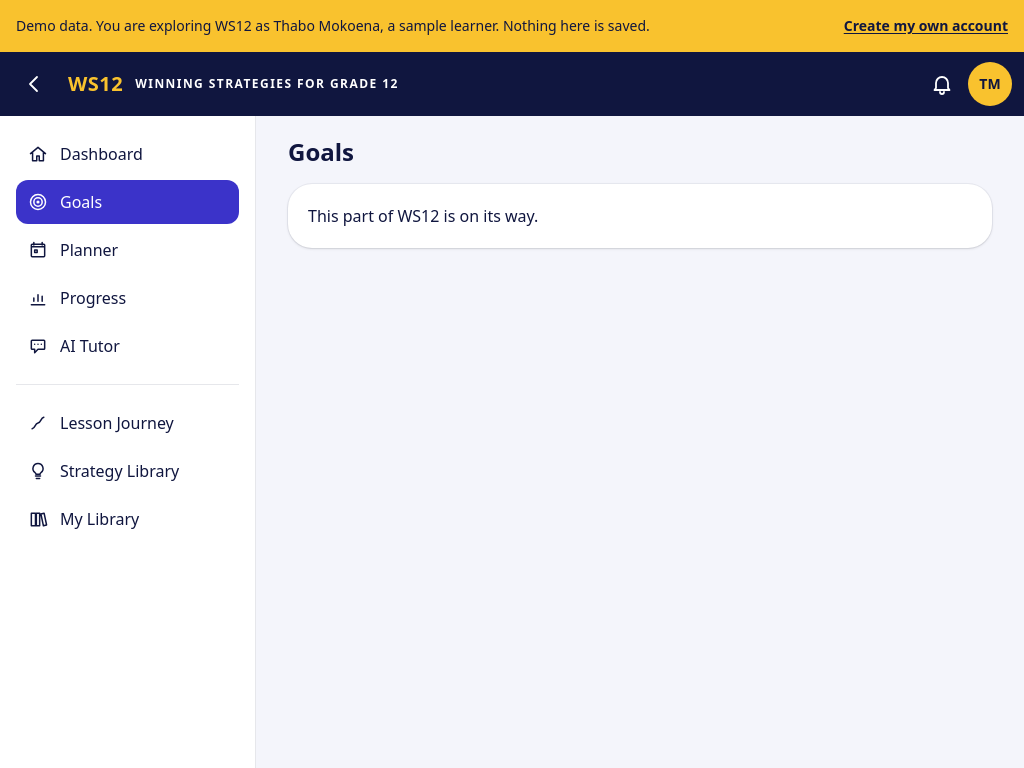
Test case: app shell › shows a back button on inner screens only
The width and height of the screenshot is (1024, 768).
Click the button named "Back" at x=34, y=84, box 12,62 -> 56,106
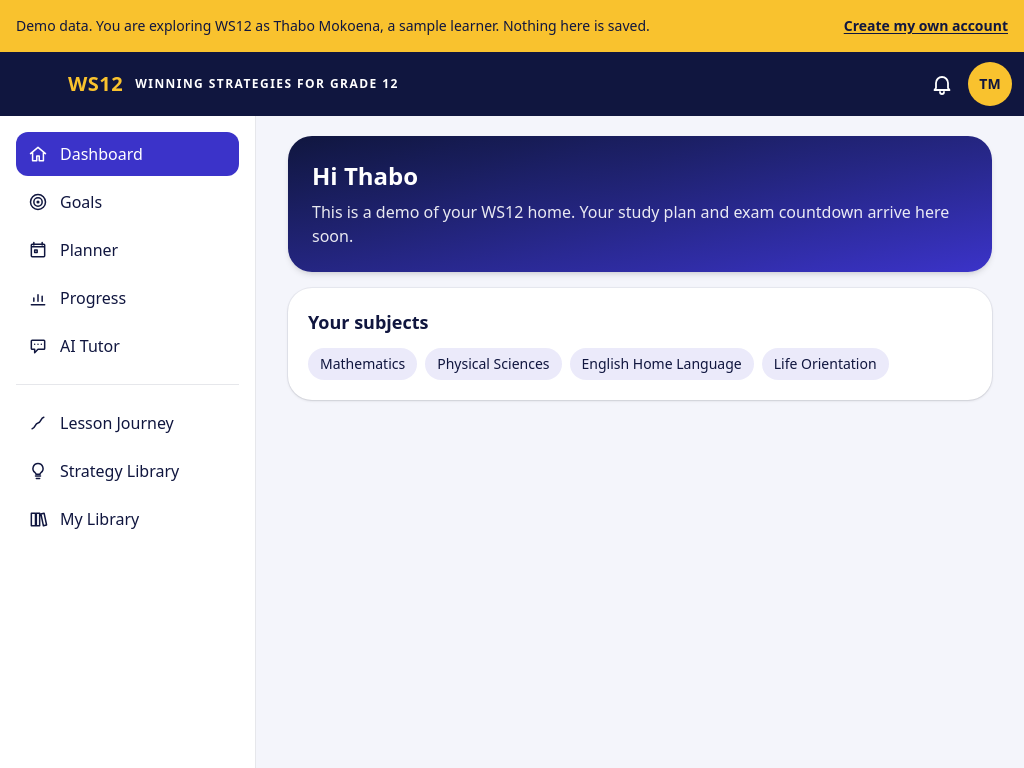
Check: the heading "Hi Thabo" is shown, box 312,159 -> 418,192
Check: the button "Back" is gone
